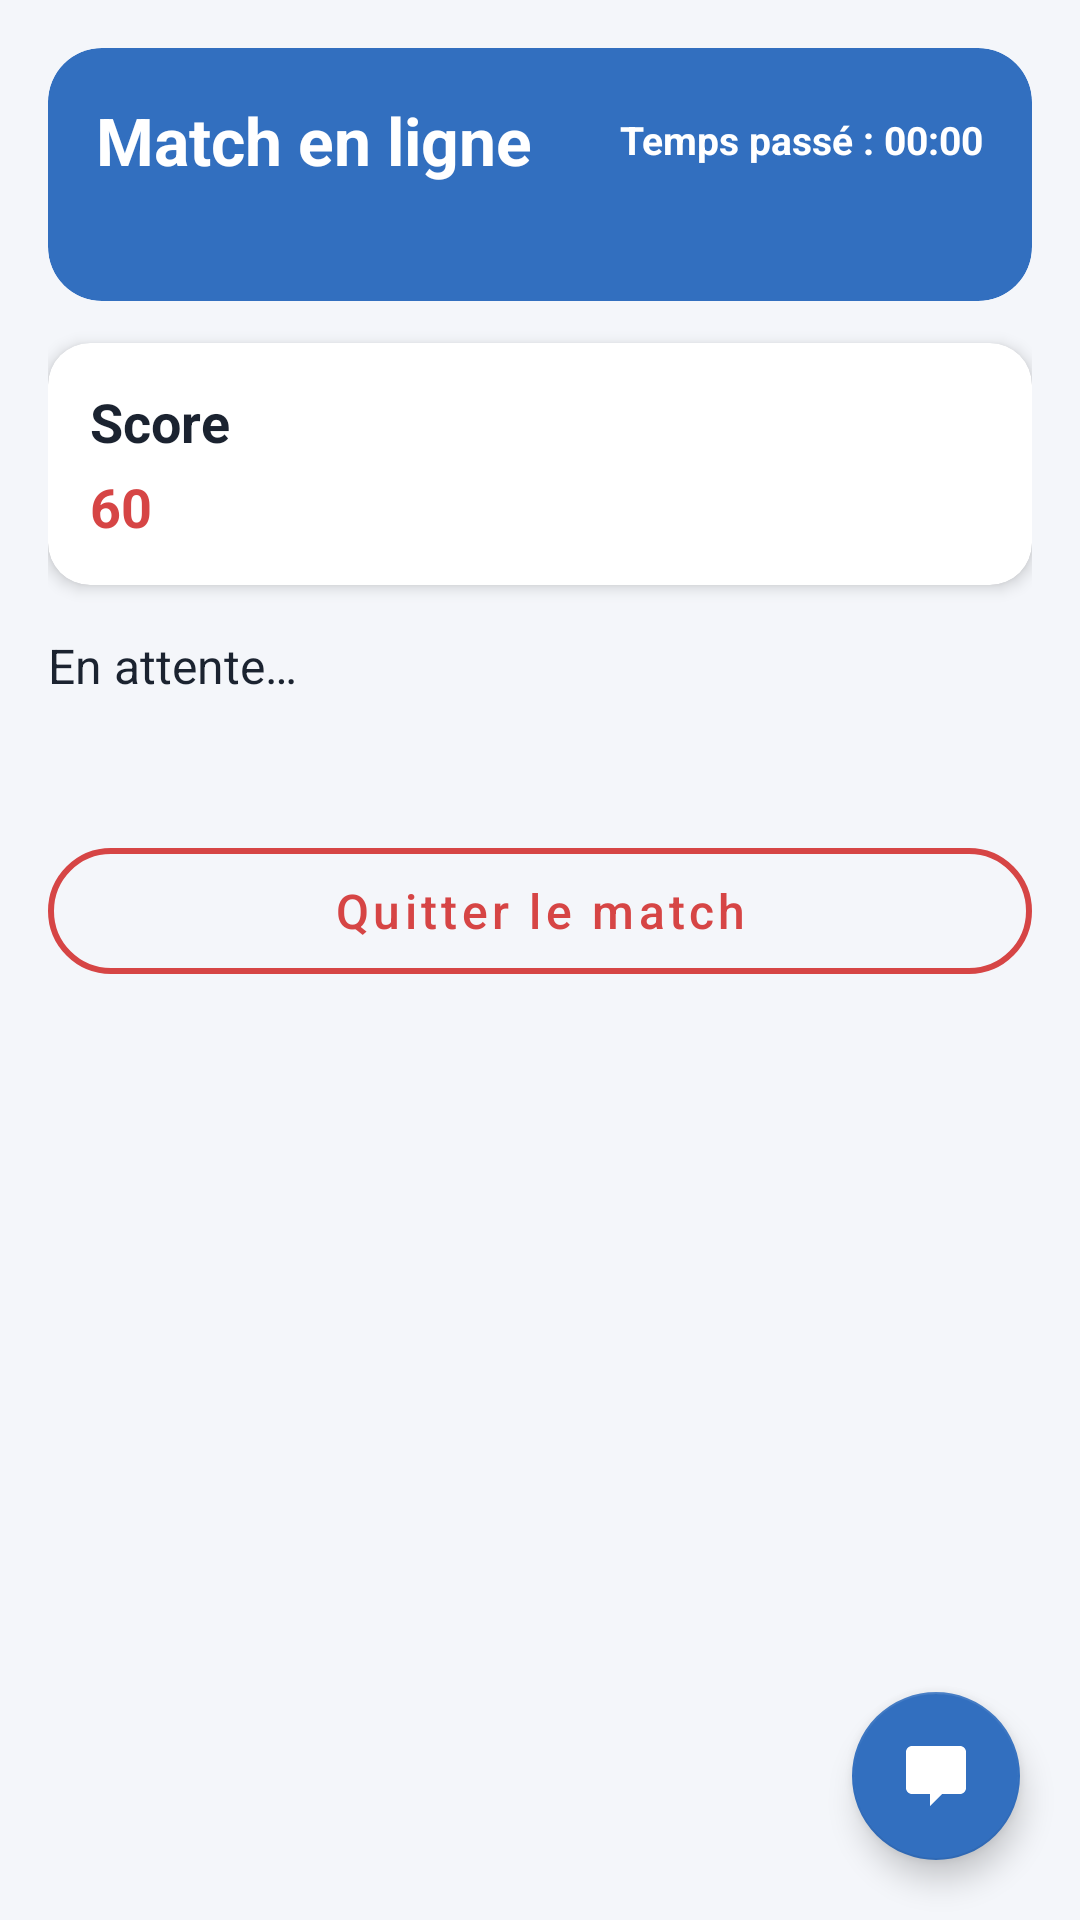

Screen size 1080*1920. Icon name, then its center in pixels as (x=x, y=y):
chat: (x=936, y=1776)
